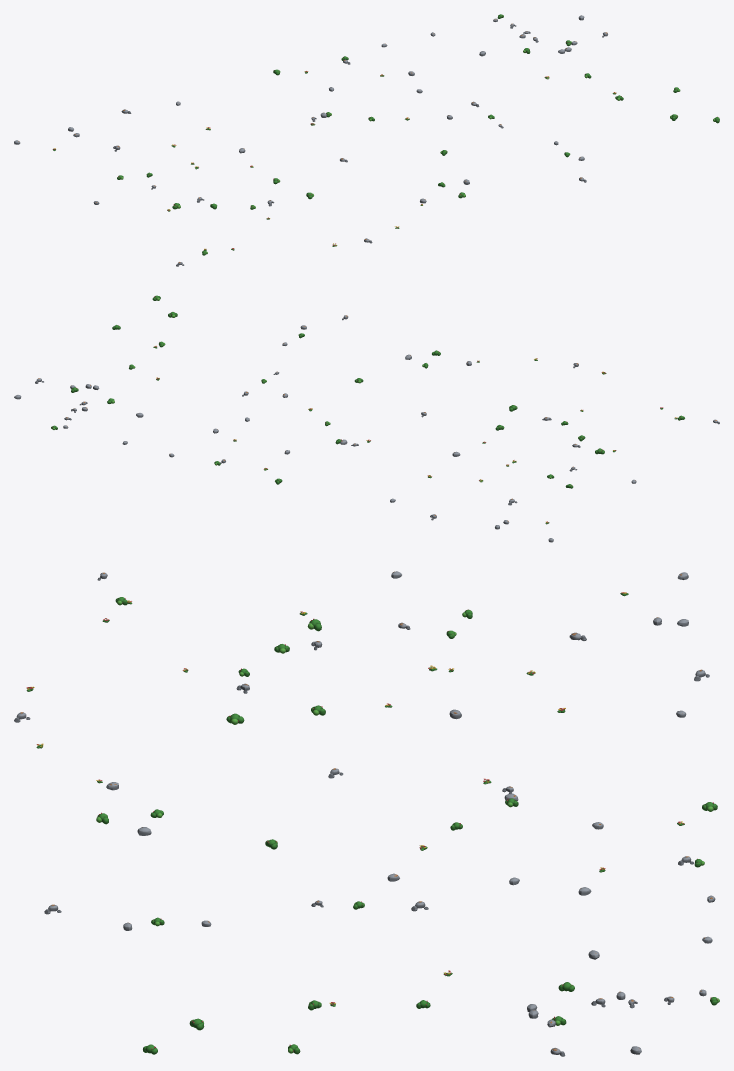
Rendered from level_6_decor.glb.
3 views of the same model, one above another, from view 1: azimuth 30°, elevation 25°; view 2: azimuth 150°, elevation 25°; view 3: azimuth 270°, elevation 25° (orthographic). The views are drawn at different scales.
Parts seen in each view (by area): view 1: no part large enough to name; view 2: no part large enough to name; view 3: Chunk_1_m1, Chunk_m1_0, Chunk_0_m1, Chunk_0_0, Chunk_m1_m1.
Boxes of the visible parts, <box> form: Chunk_1_m1: <box>416,982,719,1056</box>; Chunk_m1_0: <box>14,641,343,790</box>; Chunk_0_m1: <box>387,821,715,976</box>; Chunk_0_0: <box>44,809,364,930</box>; Chunk_m1_m1: <box>385,665,717,811</box>.
Size of what is drawn, in the model's own units: 42.81 by 0.4042 by 26.51.
Materials: 1 (1 with a texture image).
